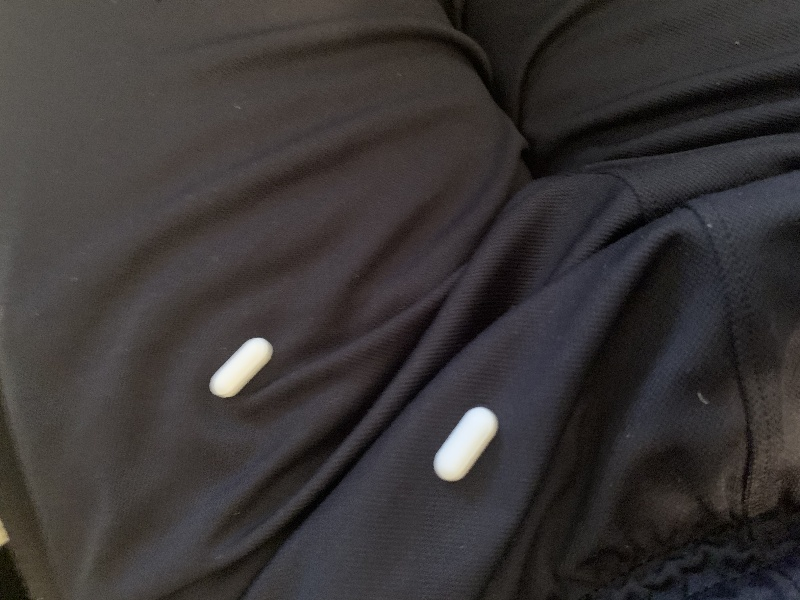Tylenol: (428, 402, 504, 487), (204, 332, 281, 403)
